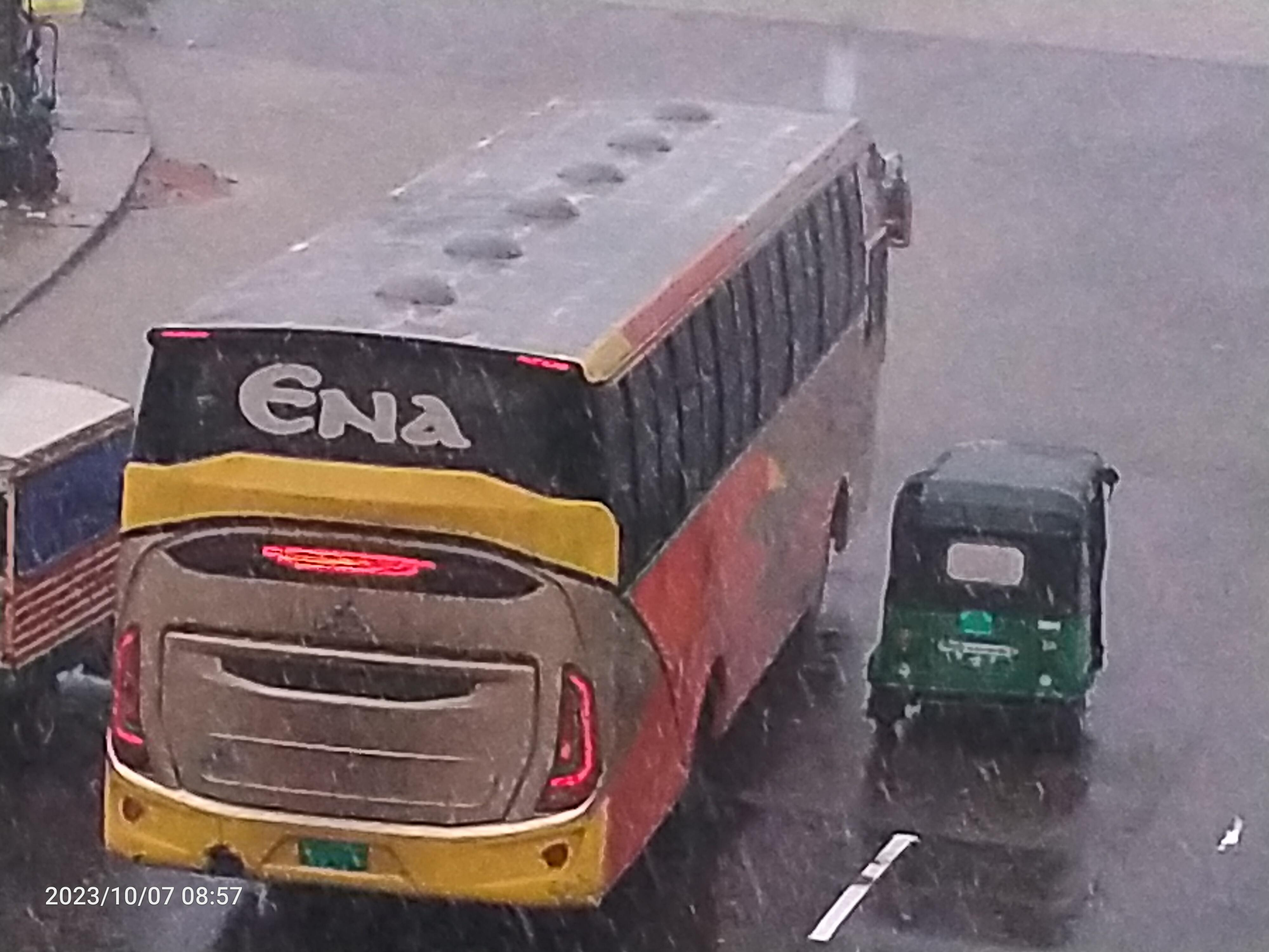Bus: (74, 63, 929, 949)
Car: (0, 359, 151, 770)
